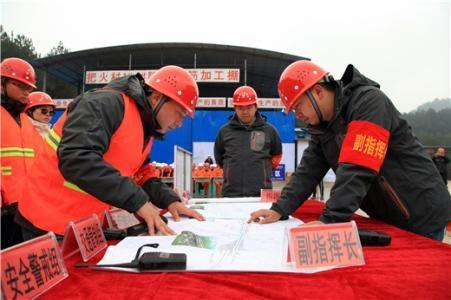Helmet: (147, 66, 200, 132), (279, 60, 330, 128), (230, 86, 258, 122)
